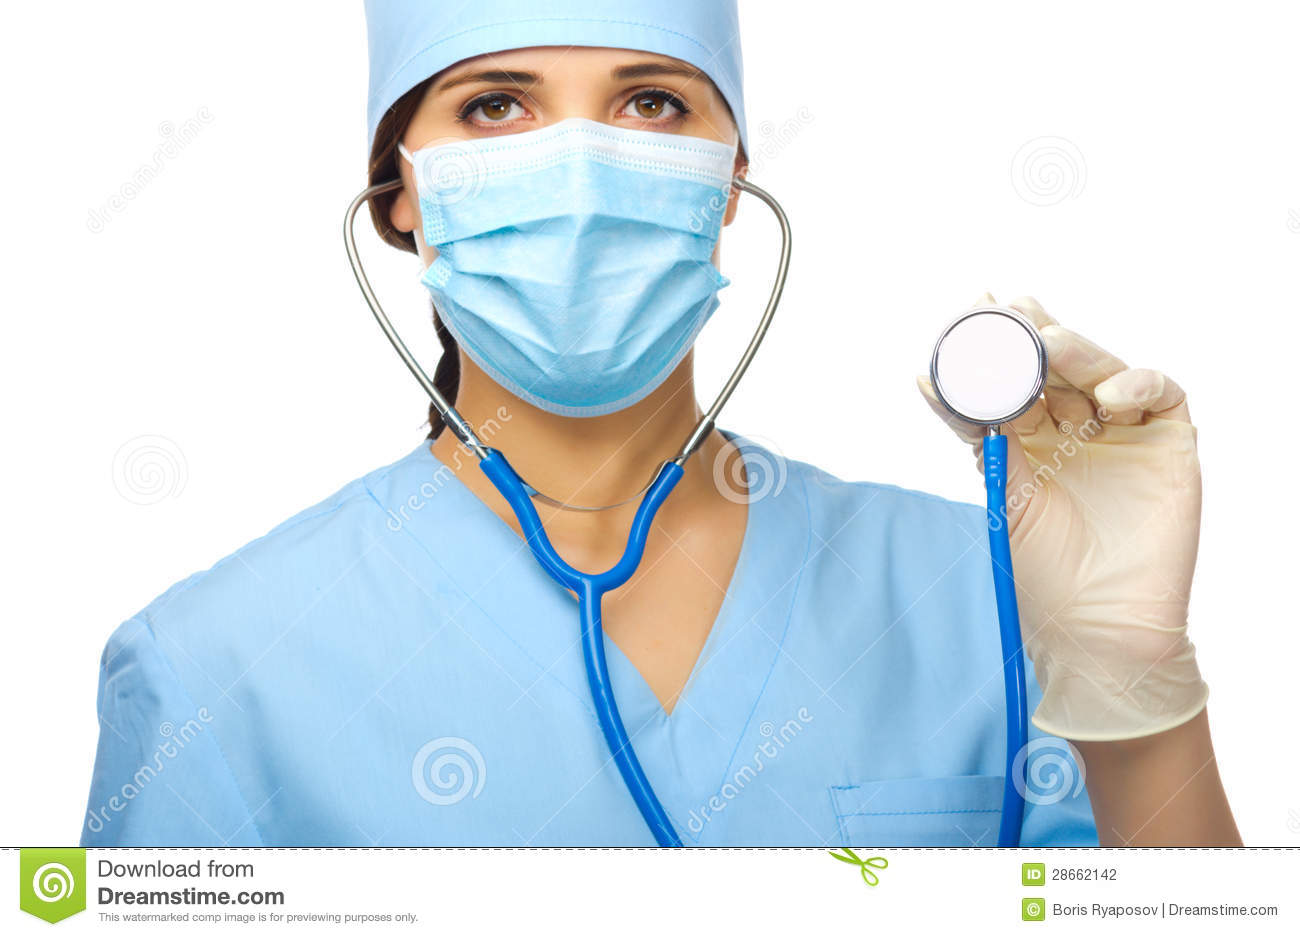mask: (399, 118, 732, 406)
